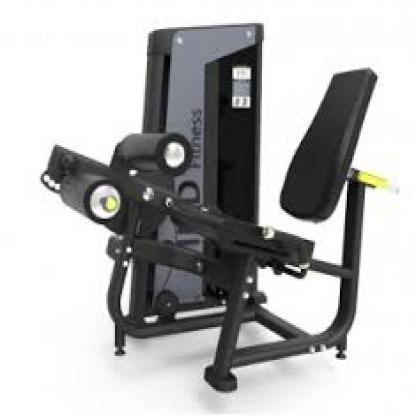leg extension: (32, 20, 390, 393)
